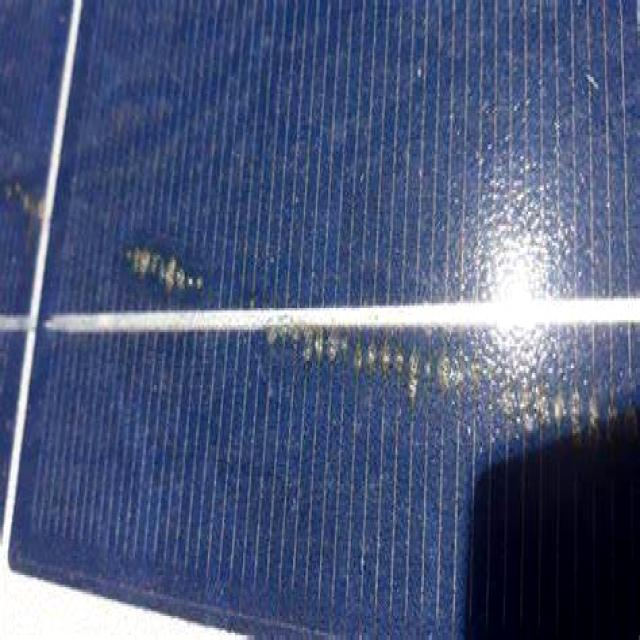shadow: (271, 264, 640, 482), (112, 218, 222, 315), (0, 80, 52, 262)
